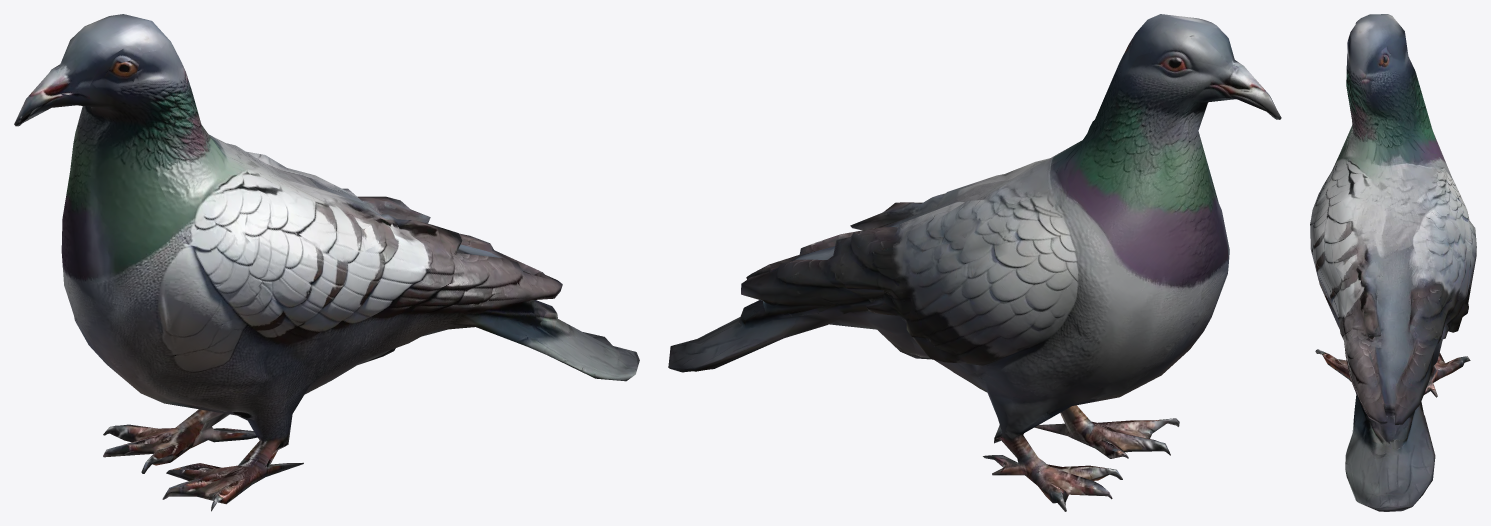
File: pigeon.glb
The picture shows the model from 3 angles, left to right: view 1: azimuth 30°, elevation 25°; view 2: azimuth 150°, elevation 25°; view 3: azimuth 270°, elevation 25°; orthographic projection. The views are drawn at different scales.
Bounding box in the file's own units: 2 × 1.47 × 0.6752.
Materials: 1 (1 with a texture image).
